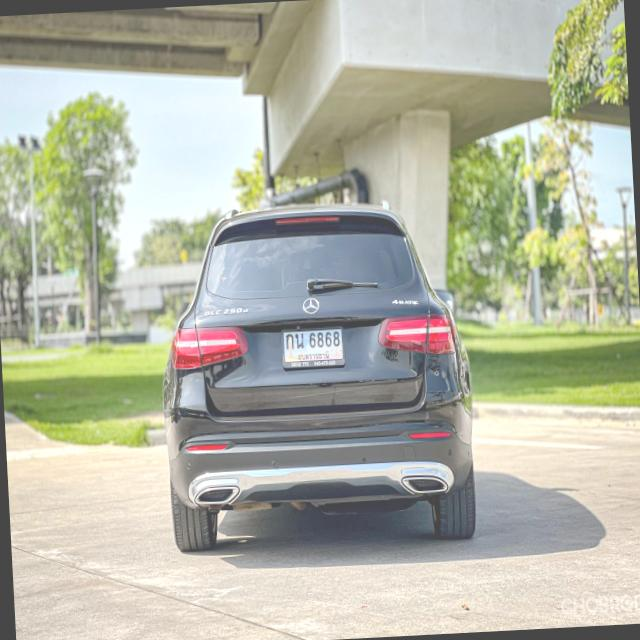license_plate: (280, 325, 347, 369)
